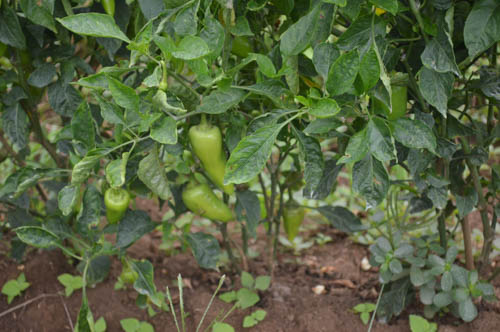ChiliPepper: (188, 126, 236, 188), (183, 183, 234, 227), (104, 188, 130, 224), (282, 205, 302, 243)
